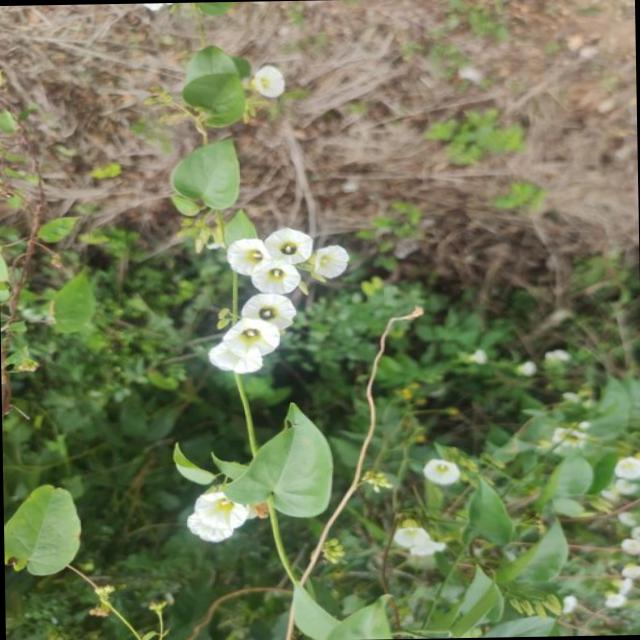ipomoea: (202, 222, 356, 377), (182, 483, 259, 545), (418, 454, 466, 488)
